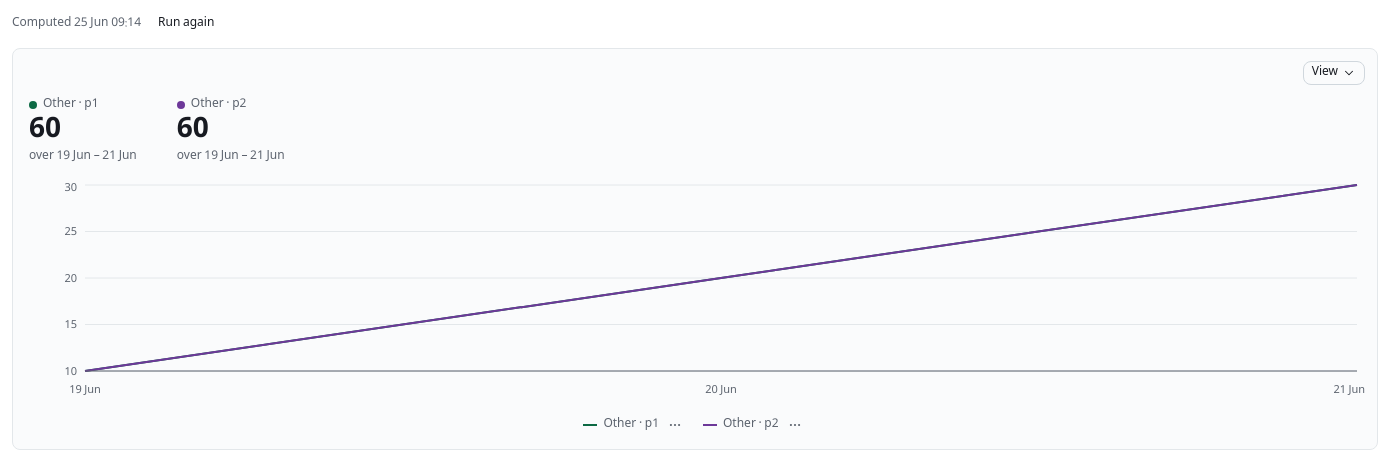
AC-1138/1139/1141 — the legend is real buttons › Shift+click on a legend entry reaches the same isolate the kebab does (AC-1139)
What coordinates should you click on to do the following:
click the button "Other · p1"
I would click on:
 (621, 425)
Its box is [583,417,659,433].
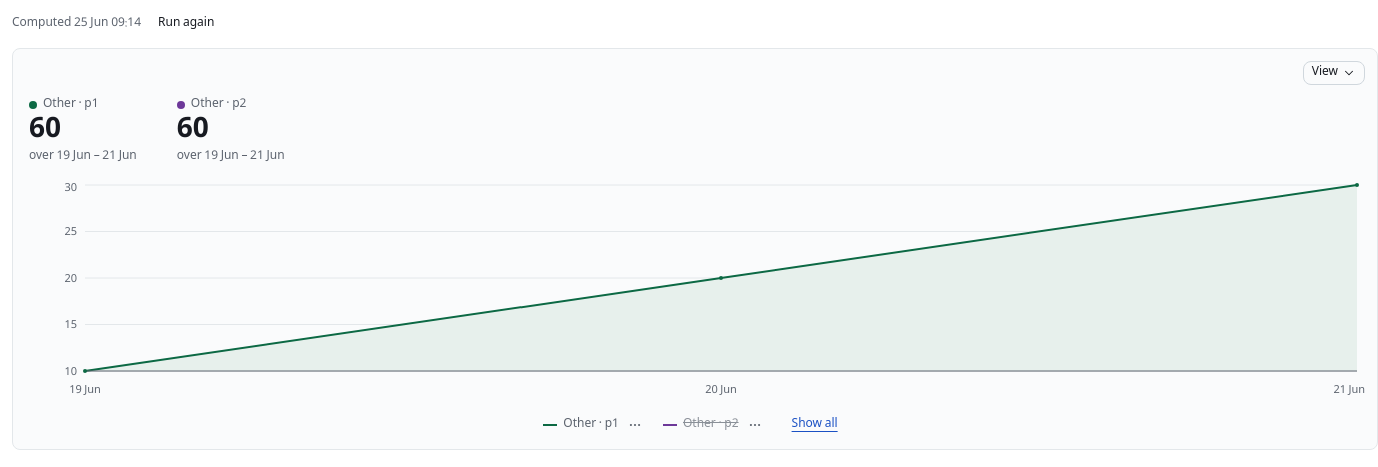
Expected: the button "Show all" is shown, [783,413,847,437]
